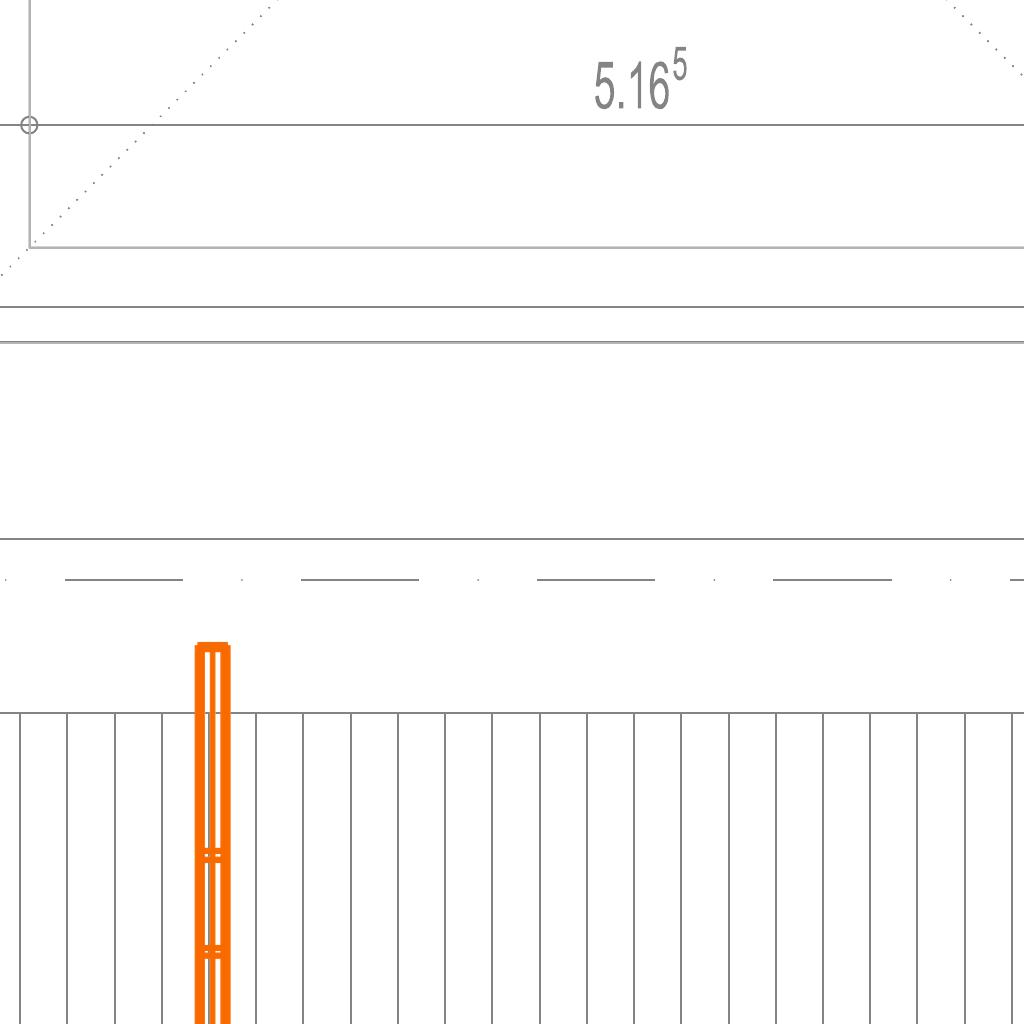Ambulanz_Pendelleuchte_LED: (182, 631, 294, 1024)
